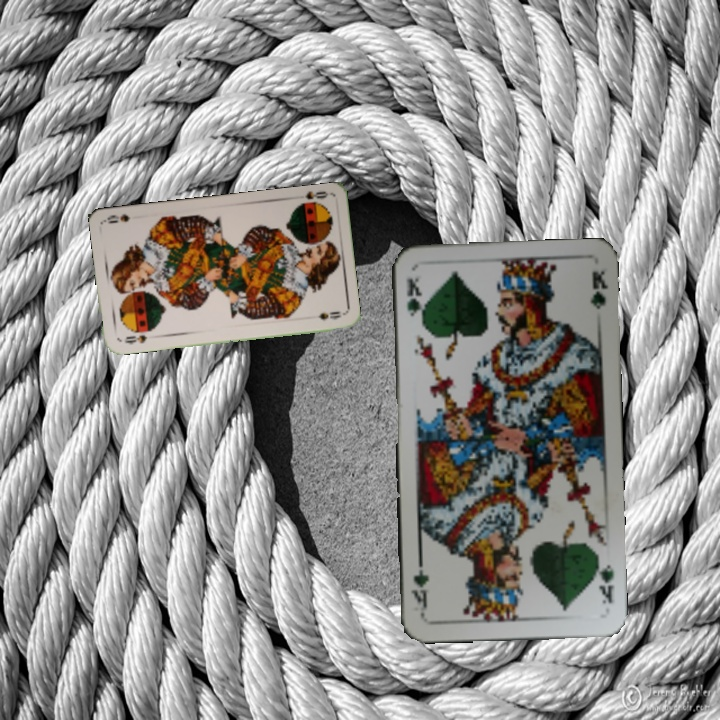GK: (591, 553, 616, 606), (402, 274, 425, 327)
SO: (120, 331, 150, 347), (301, 187, 330, 202)
